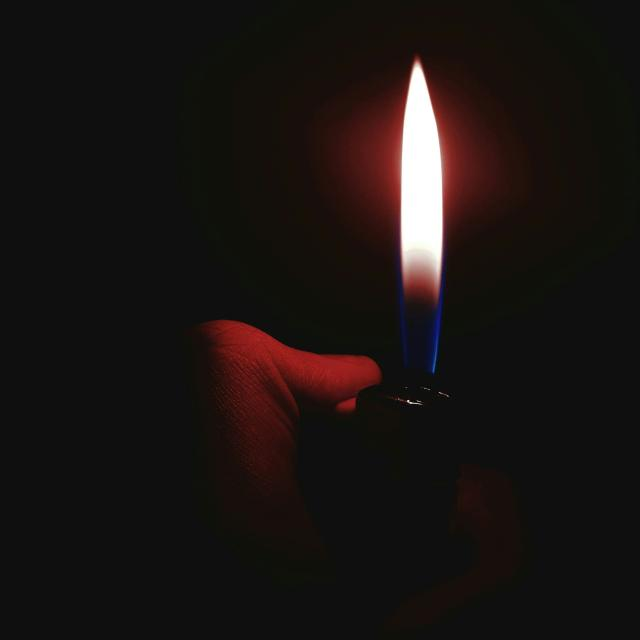fire: (401, 56, 440, 372)
